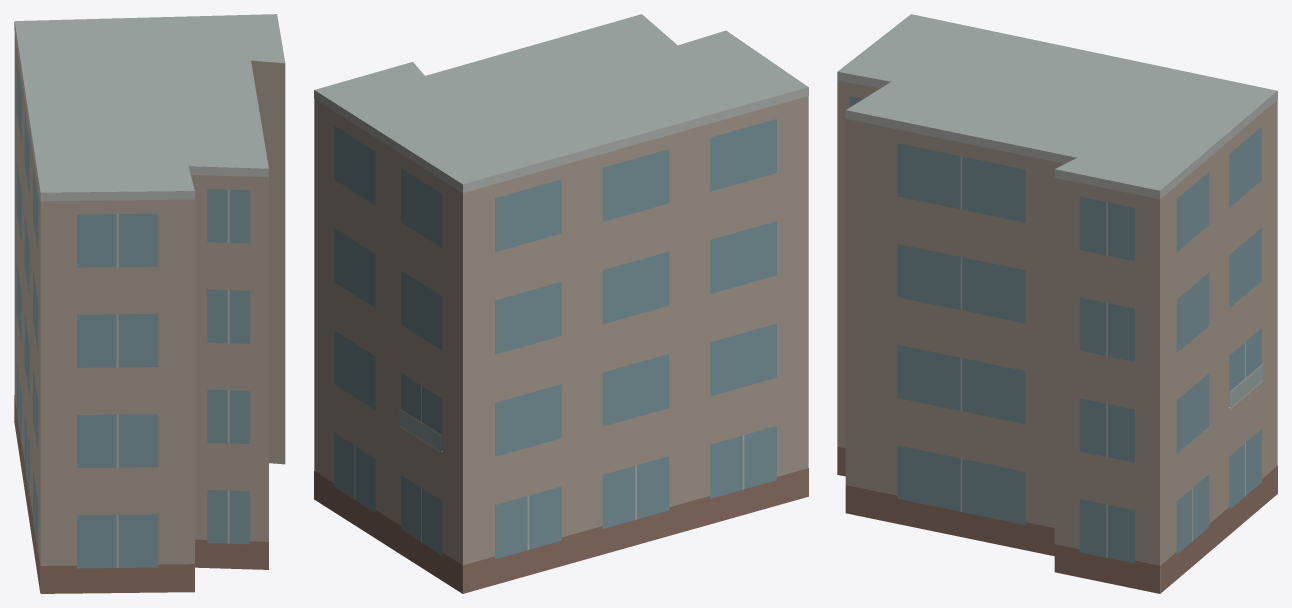
The model's file is survey-upis-33011717.glb.
3 views of the same model, side by side, from view 1: azimuth 30°, elevation 25°; view 2: azimuth 150°, elevation 25°; view 3: azimuth 270°, elevation 25° (orthographic). The views are drawn at different scales.
Parts seen in each view (by area): view 1: survey-upis-33011717.tmp; view 2: survey-upis-33011717.tmp; view 3: survey-upis-33011717.tmp.
Boxes of the visible parts, x1=… form: survey-upis-33011717.tmp: x1=14, y1=14, x2=285, y2=593; survey-upis-33011717.tmp: x1=314, y1=14, x2=808, y2=593; survey-upis-33011717.tmp: x1=837, y1=14, x2=1277, y2=593.
Size of the model in its own units: 10.73 by 11.4 by 11.3.
